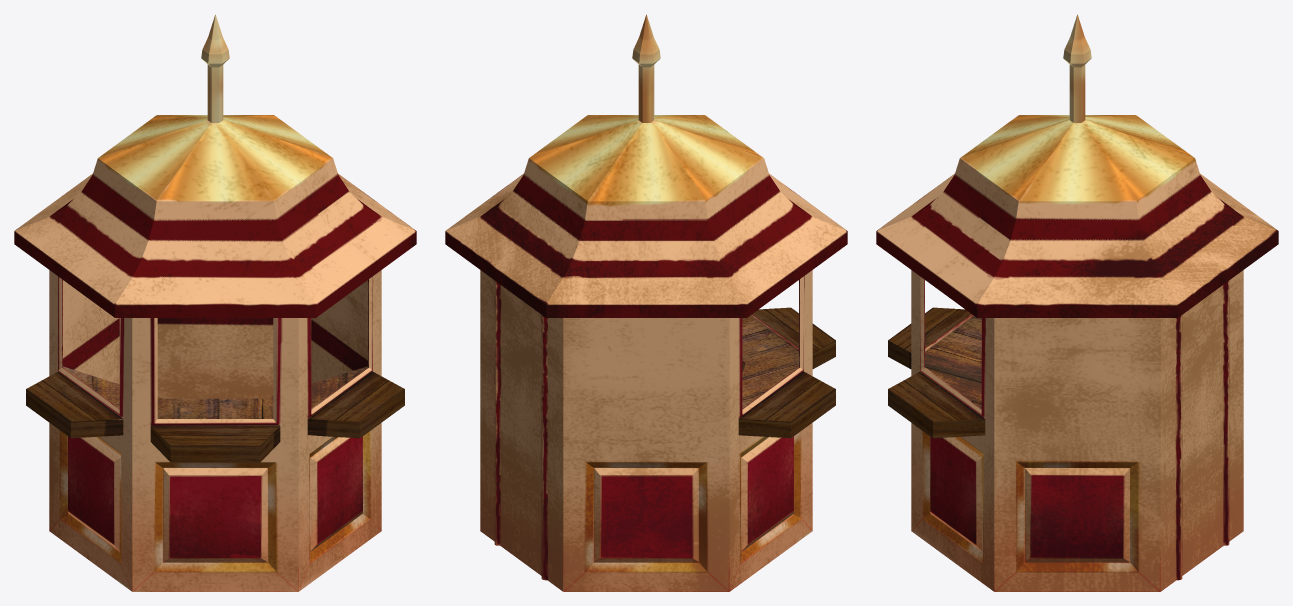
The model's file is ticketbooth.fbx.
3 views of the same model, side by side, from view 1: azimuth 30°, elevation 25°; view 2: azimuth 150°, elevation 25°; view 3: azimuth 270°, elevation 25° (orthographic).
Parts seen in each view (by area): view 1: ticket booth; view 2: ticket booth; view 3: ticket booth.
Part boxes in pixels (x1,y1,x2,y2): ticket booth: [14, 14, 416, 591]; ticket booth: [445, 14, 847, 591]; ticket booth: [876, 14, 1278, 591].
Bounding box in the file's own units: 366 × 569 × 401.
